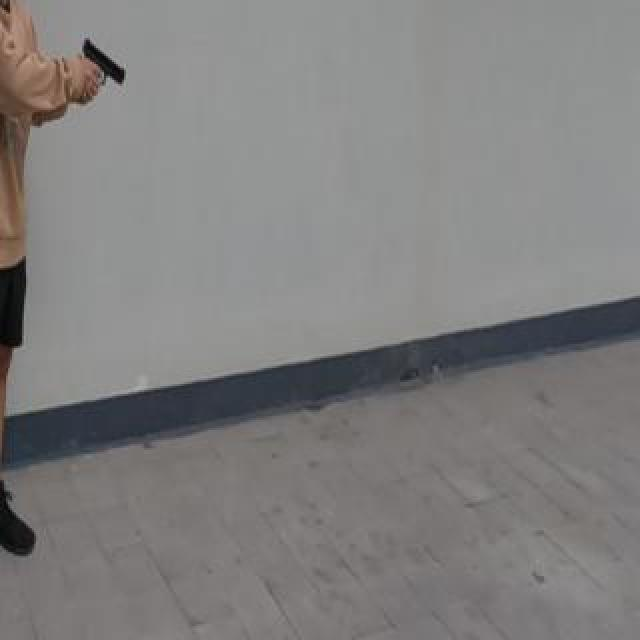Guns: (75, 26, 138, 100)
